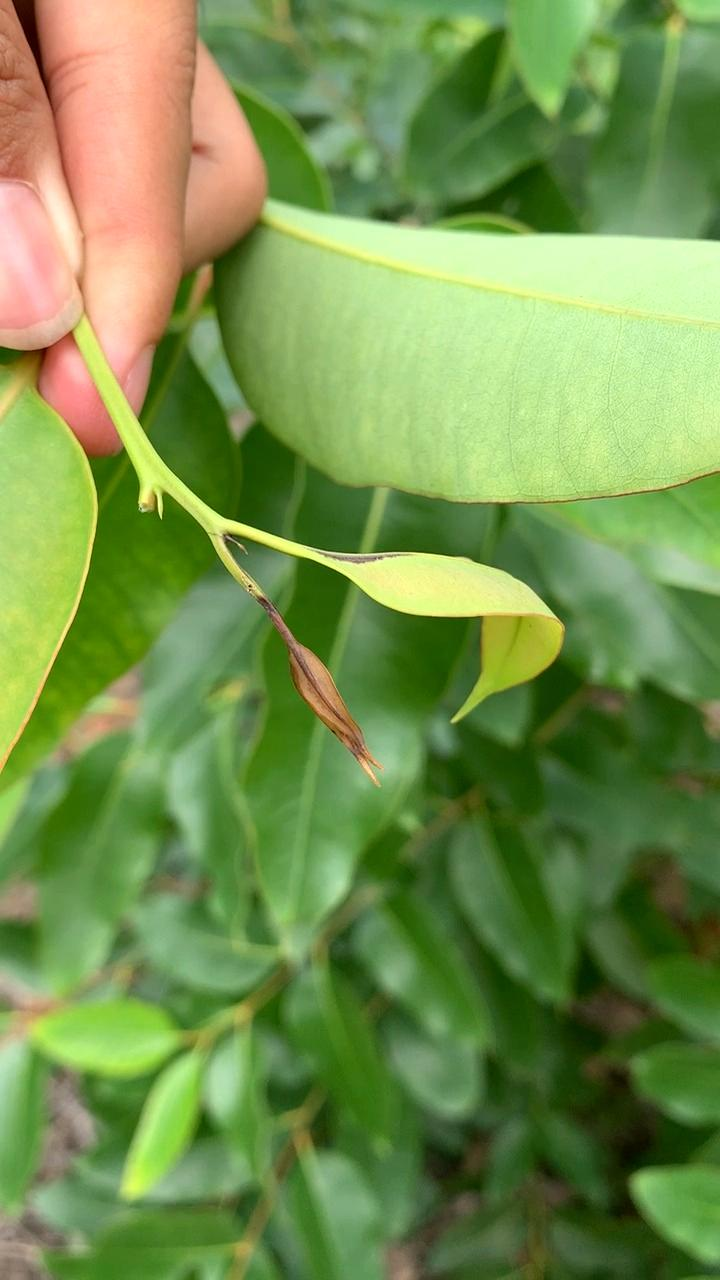Helopeltis-Withered Sprout: (243, 618, 405, 773)
